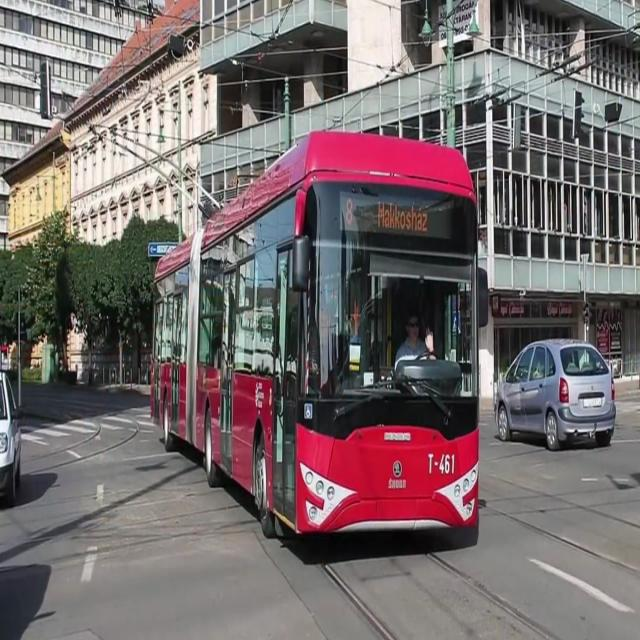bus: (148, 127, 486, 558)
